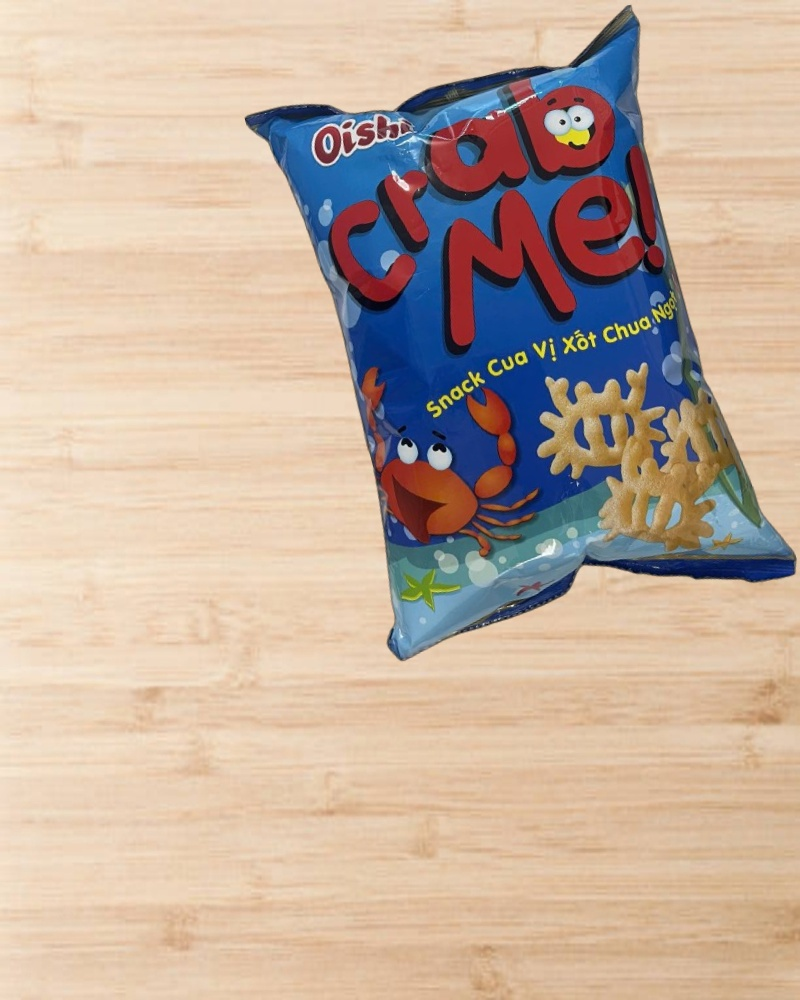Snack chay: (243, 1, 800, 683)
